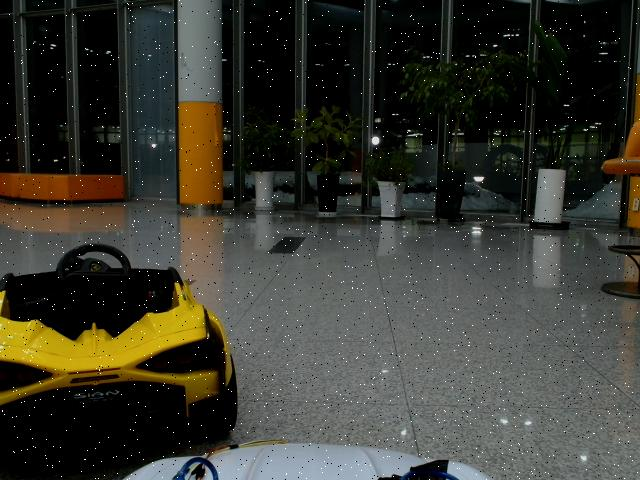car: (1, 244, 238, 461)
